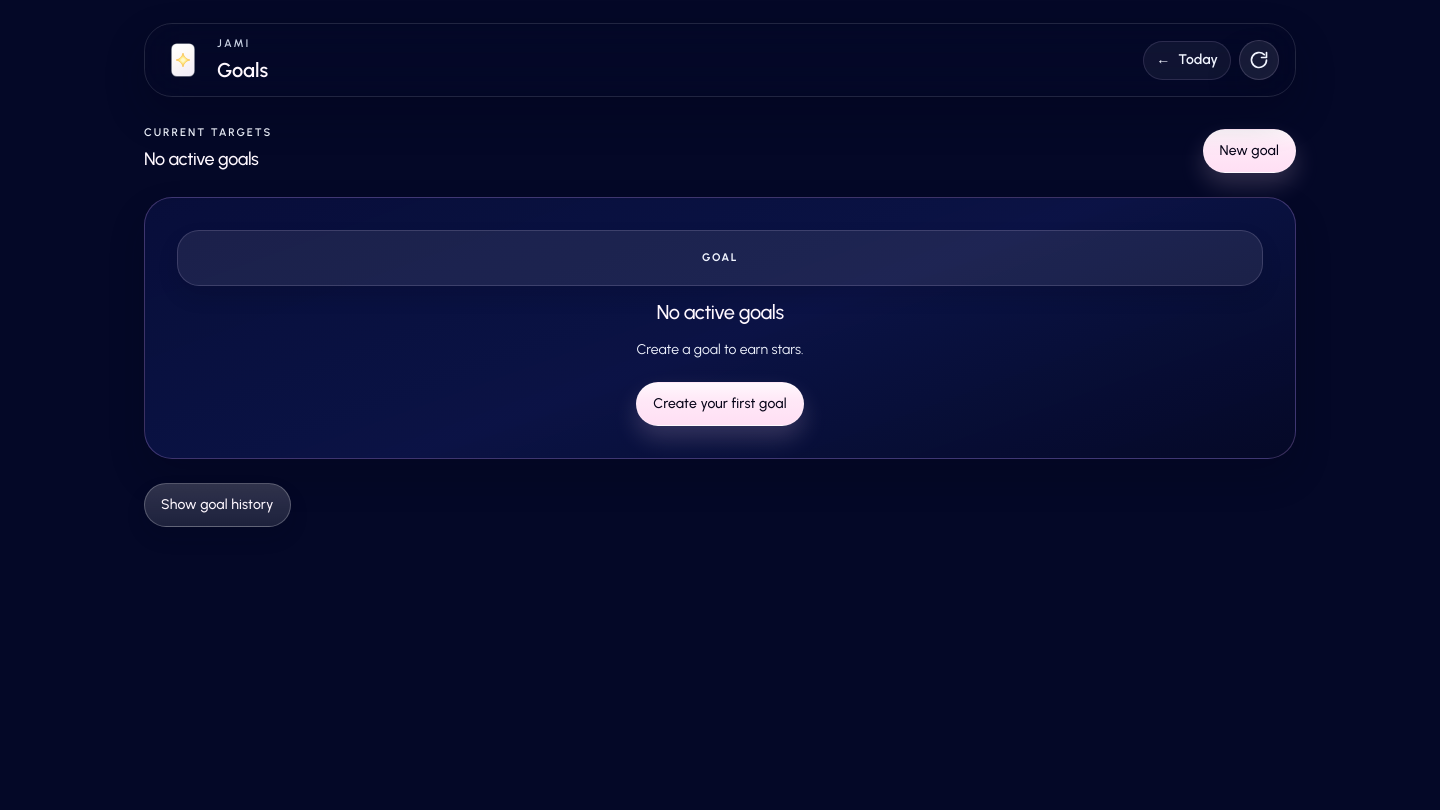
Test: goals deadline layout › loads goal history only when the student opens it
This screenshot has width=1440, height=810.
Click the button "Show goal history": (217, 505) [144,483,290,527]
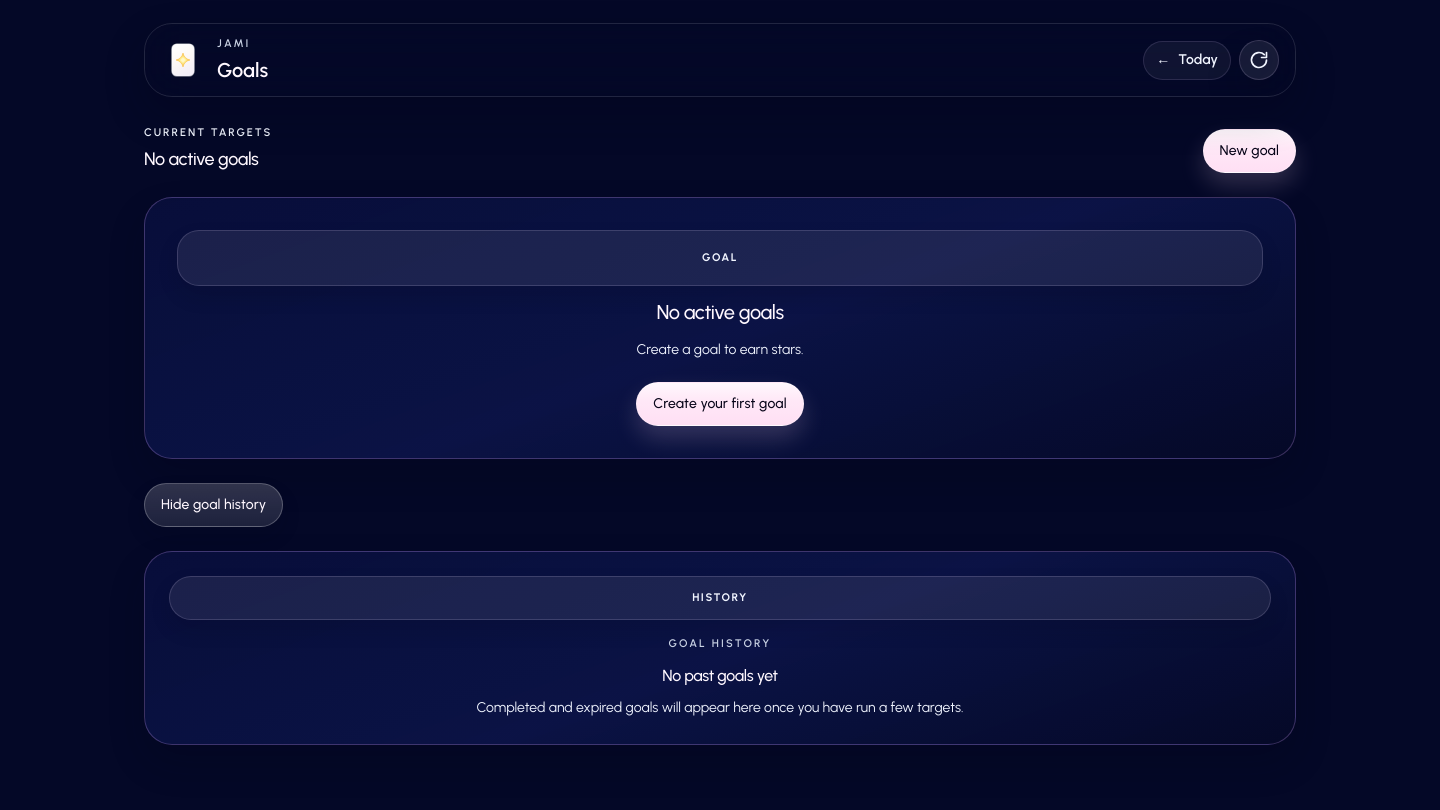
Result: the text "No past goals yet" is shown at [662,666,778,685]
